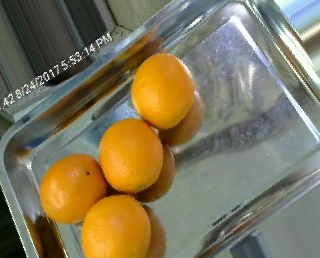Orange: (130, 50, 196, 130), (38, 153, 105, 224), (99, 118, 163, 192), (81, 194, 151, 258)
